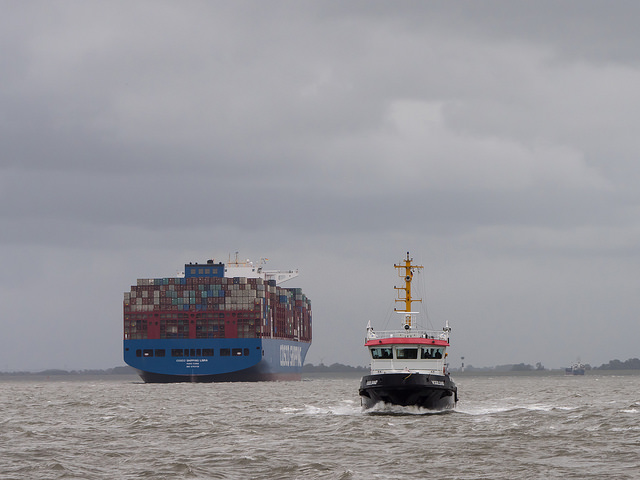container_ship: (123, 253, 317, 382)
tug_boat: (361, 254, 466, 412)
